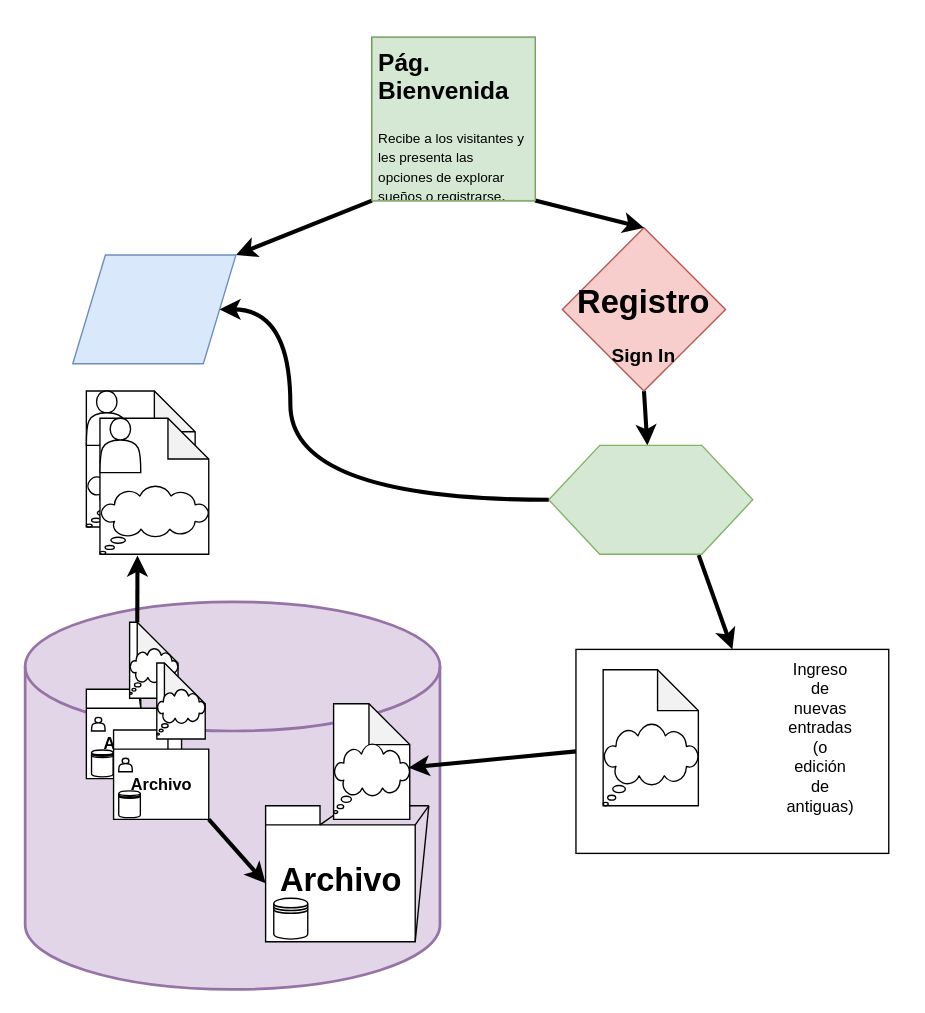
Image size: 925x1013. Some labels were removed from this diagram. The shapes that lost their labels are listed below. From the top down, each one's centre as x and y in pixels, then its label:
At point (153, 309): "Explorar".
At point (650, 499): "Home/Overview".
